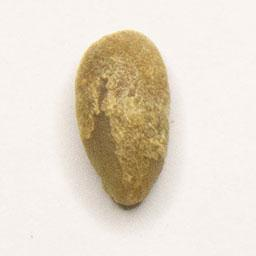longberry: (72, 27, 173, 211)
